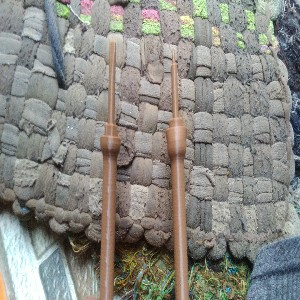obeng: (99, 40, 122, 300)
solder: (164, 49, 189, 300)
